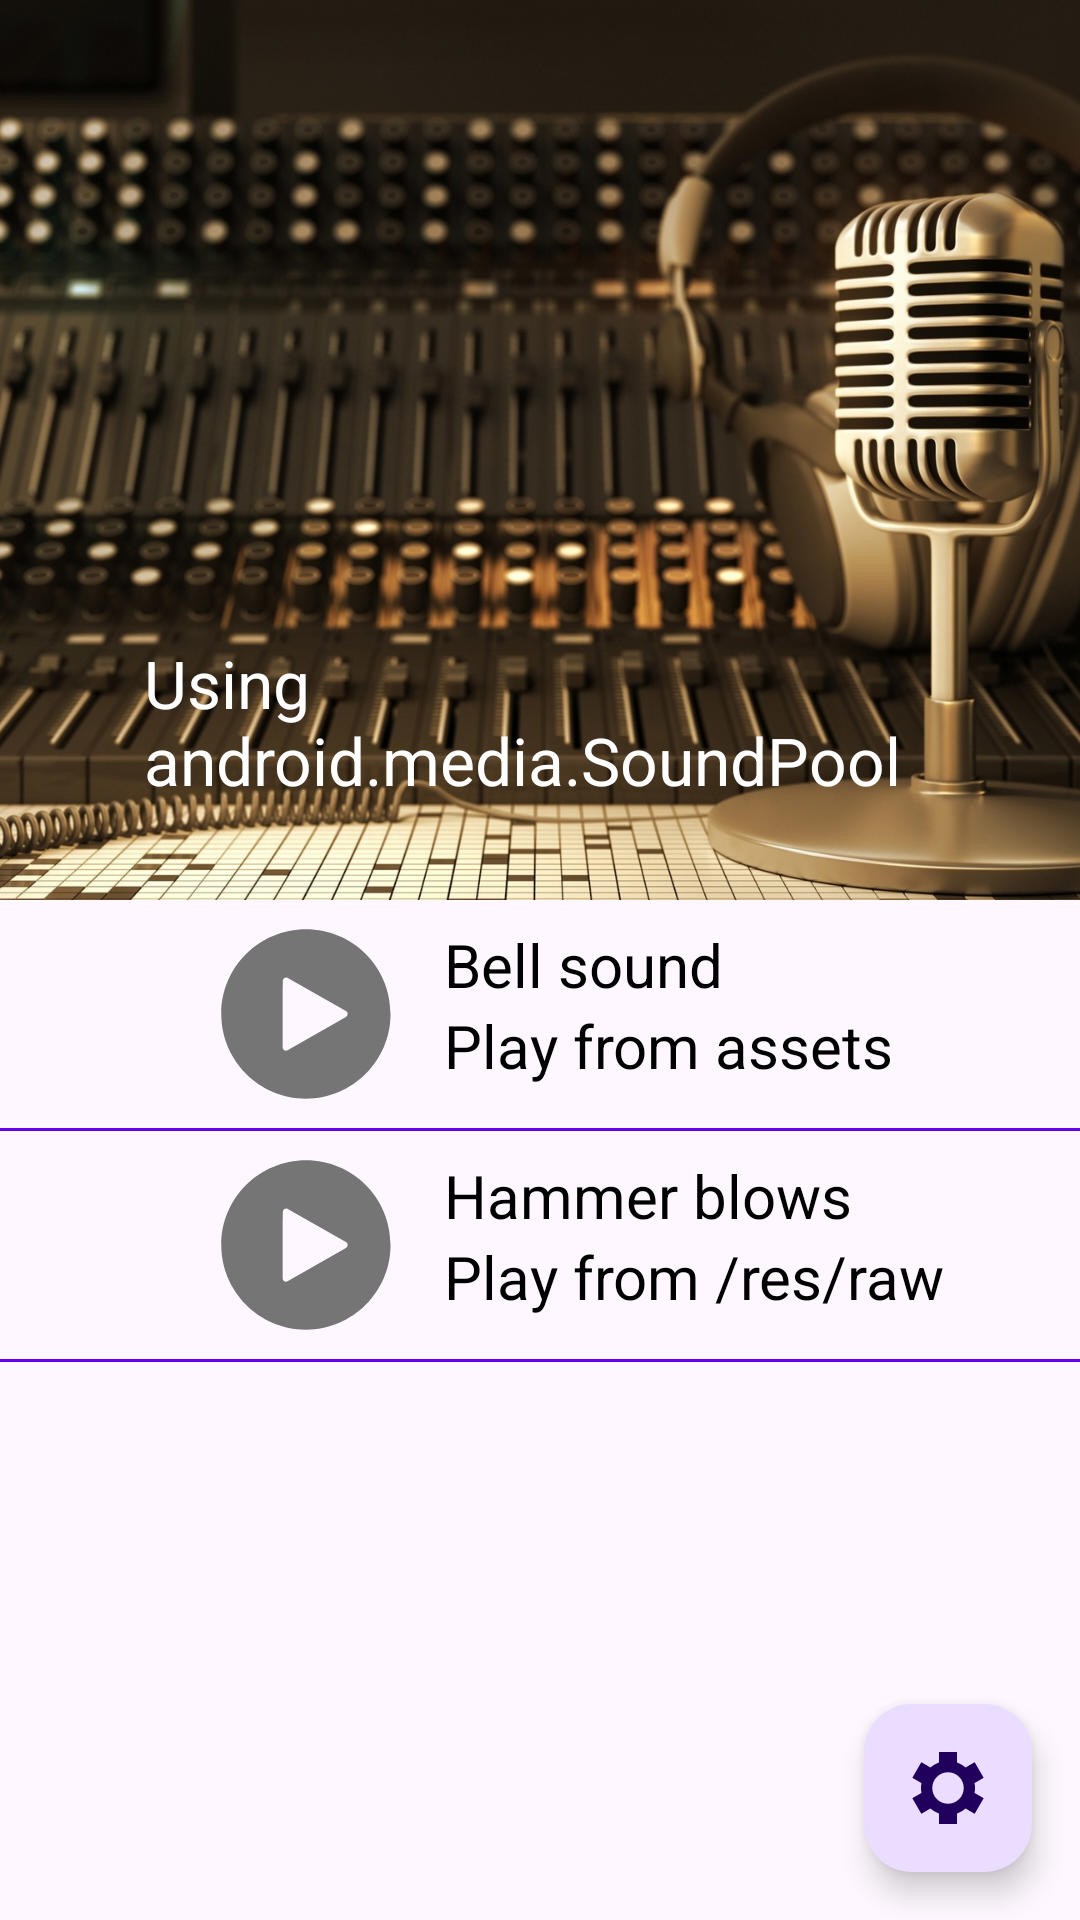

Where to tap for icons on this 1080 × 1920 app screen, as (x,y):
fab configuration: (948,1788)
playback: (306,1014), (306,1245)
